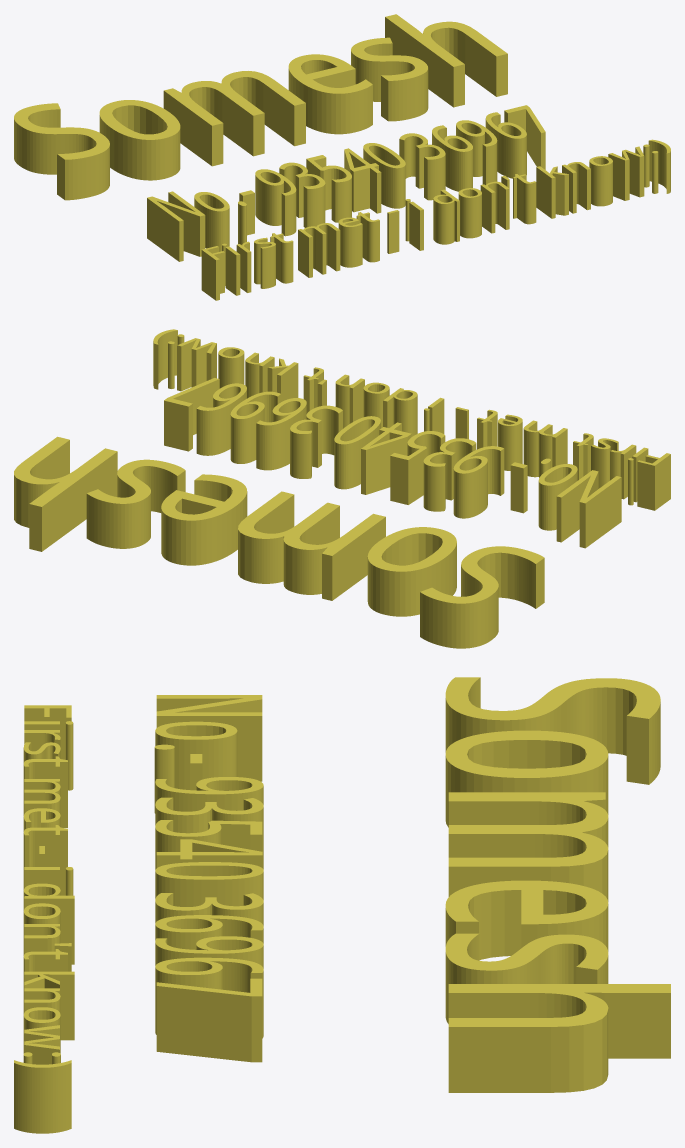
File: info2.glb
3 views of the same model, one above another, from view 1: azimuth 30°, elevation 25°; view 2: azimuth 150°, elevation 25°; view 3: azimuth 270°, elevation 25° (orthographic). The views are drawn at different scales.
Visible parts, largest first — view 1: Mesh_Mesh_head_geo.001_lambert2SG.001; view 2: Mesh_Mesh_head_geo.001_lambert2SG.001; view 3: Mesh_Mesh_head_geo.001_lambert2SG.001.
Boxes of the visible parts, x1,y1,x2,y2 form: Mesh_Mesh_head_geo.001_lambert2SG.001: (14, 14, 670, 300); Mesh_Mesh_head_geo.001_lambert2SG.001: (14, 329, 670, 648); Mesh_Mesh_head_geo.001_lambert2SG.001: (14, 677, 670, 1133).
Bounding box in the file's own units: 123 × 12 × 90.35.
